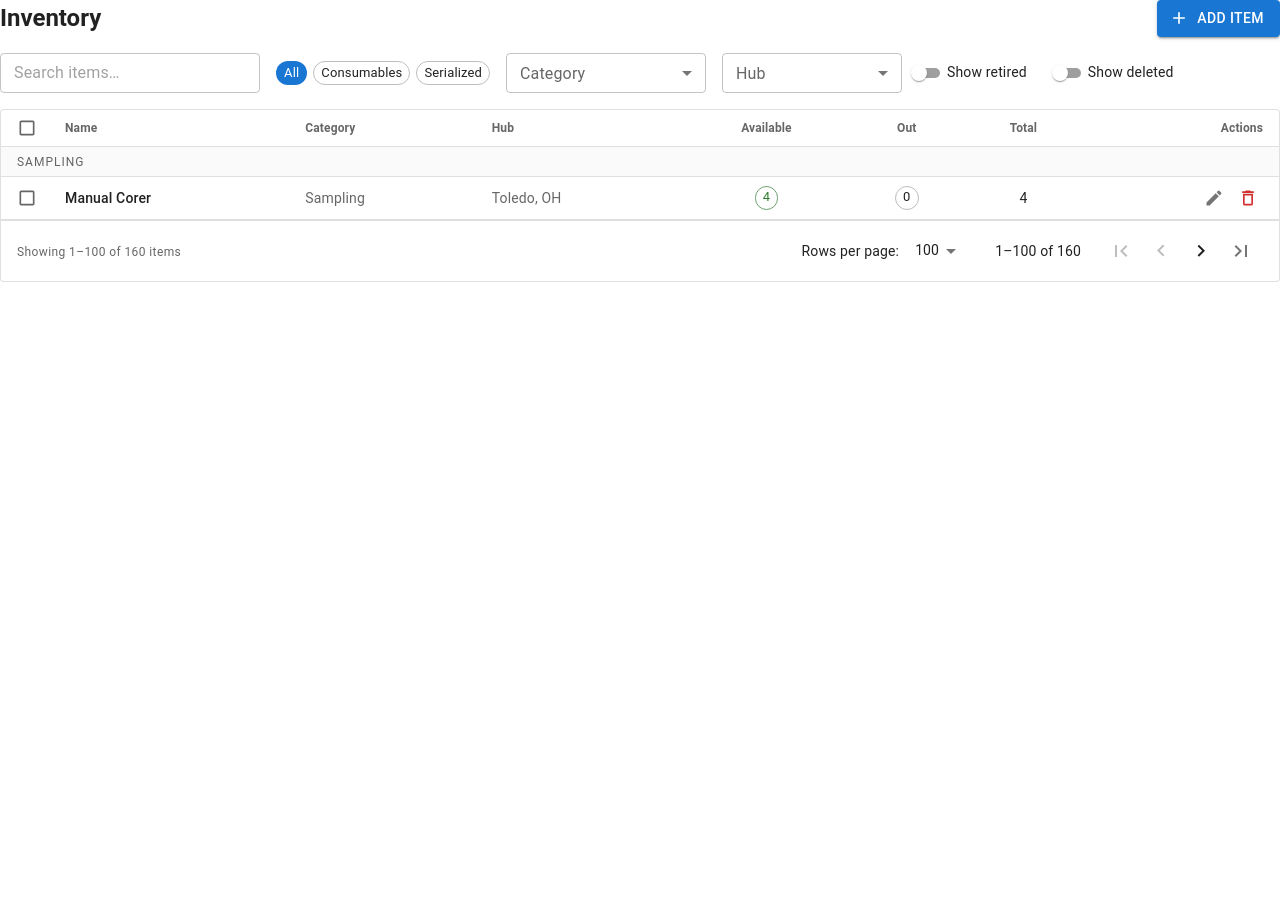
Test: PR-1a · Inventory list truth › pins the item just created under "Just added" with a New chip
Expected: the text "Manual Corer" is shown, top-left (65, 188), bottom-right (151, 208)
Click the button "Add Item": (1219, 18) top-left (1157, 0), bottom-right (1279, 36)
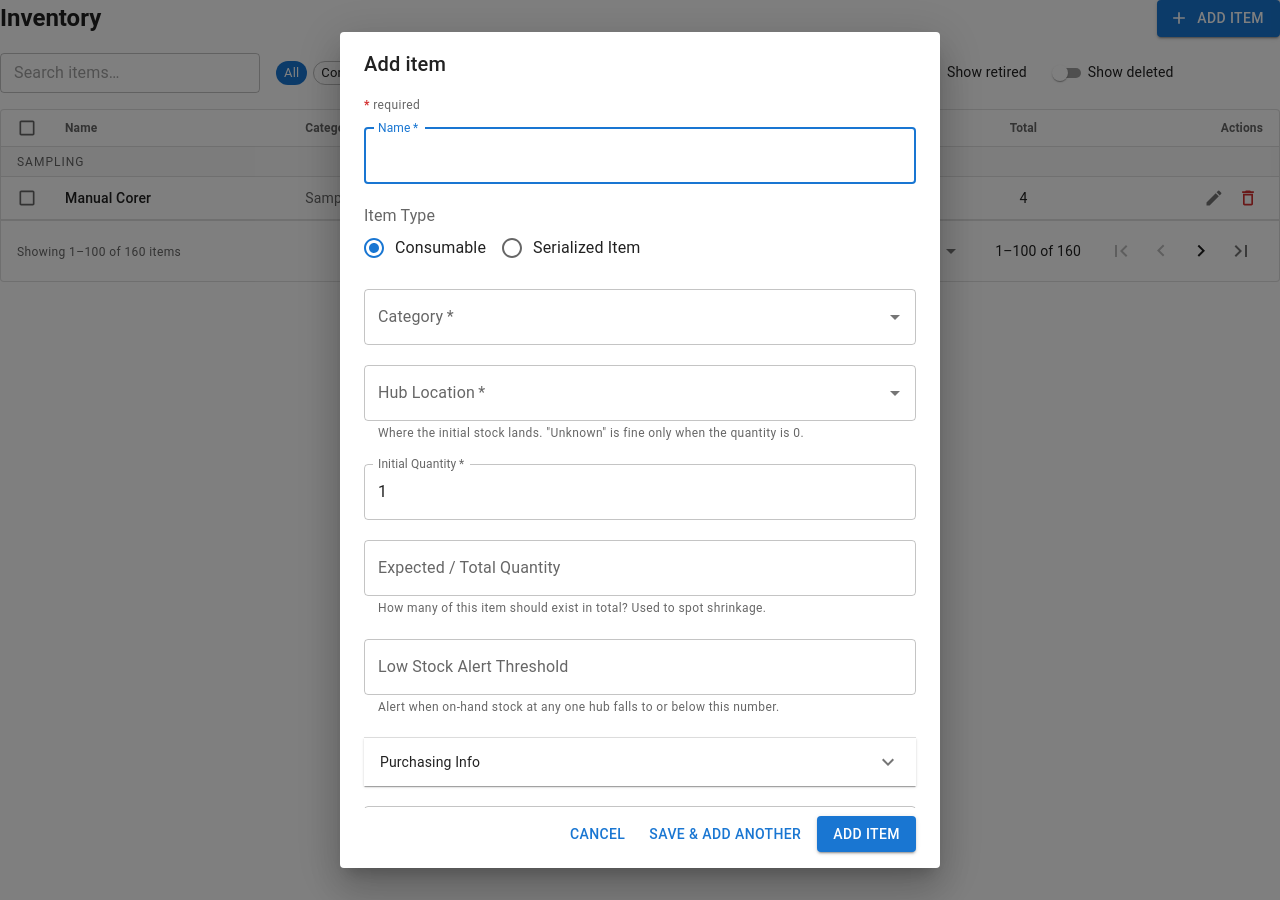
In the field labelled "Name *": (640, 156) top-left (364, 128), bottom-right (916, 184), type "Tedlar bag"
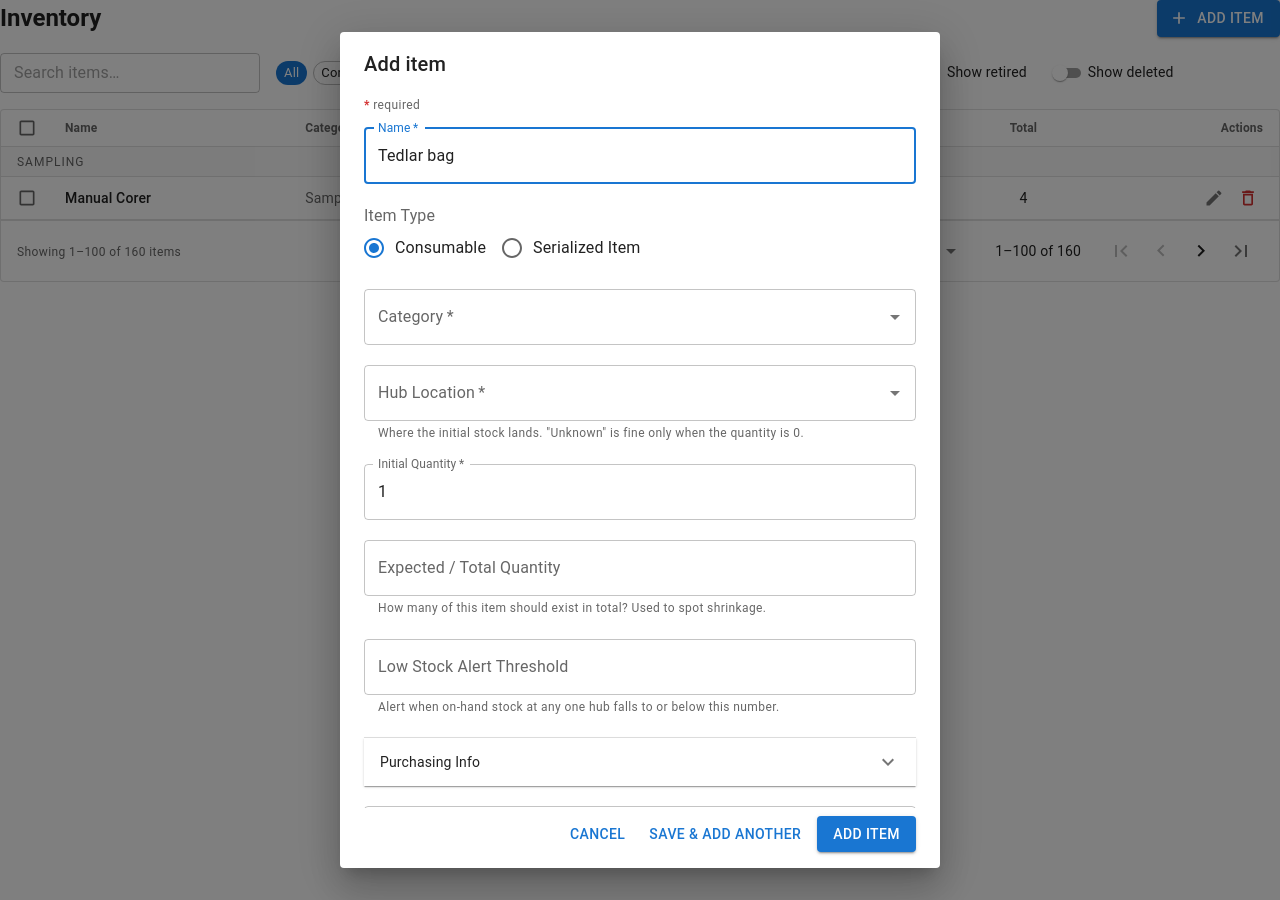
Press the mouse on the dropdown labelled "Category *": (625, 317) top-left (373, 298), bottom-right (877, 336)
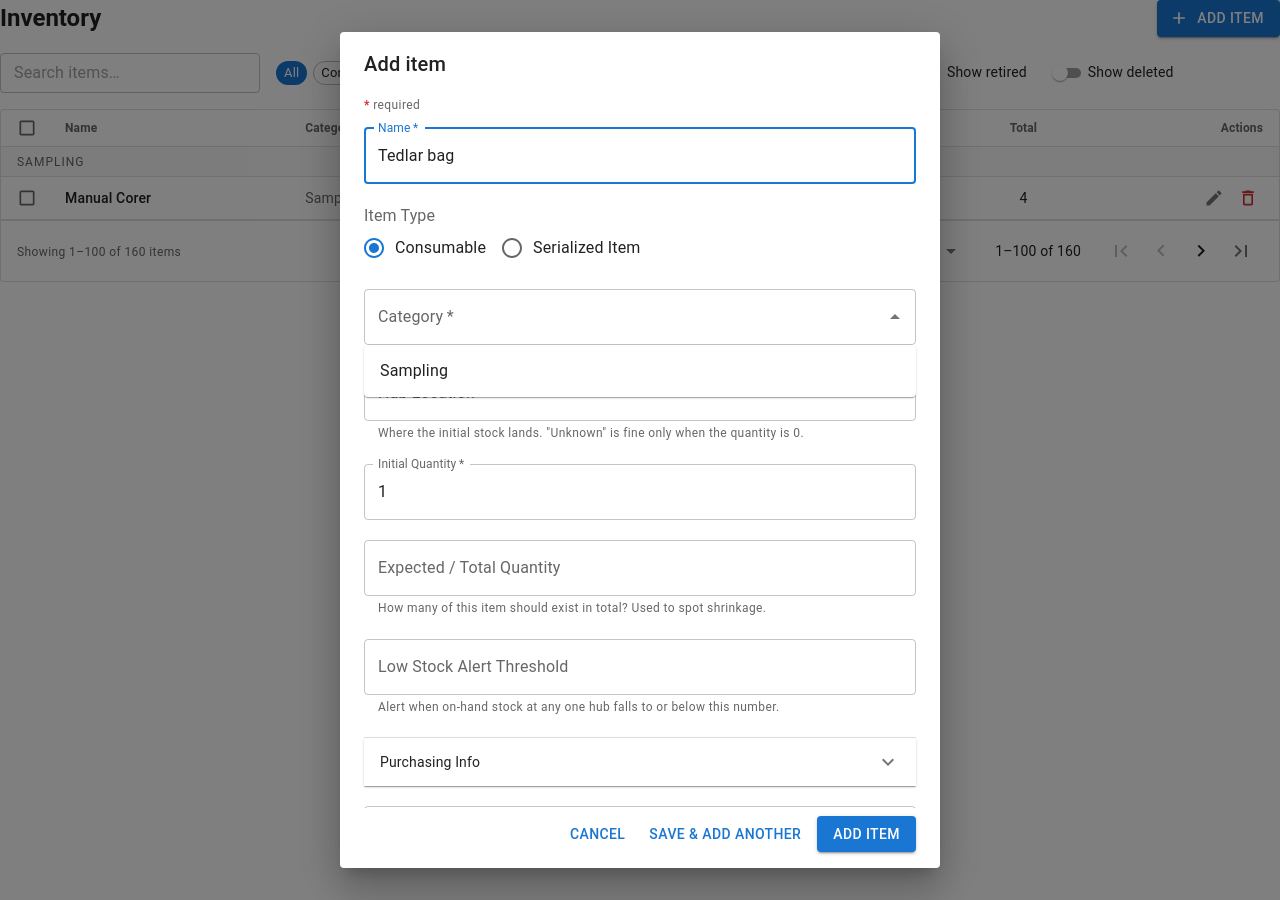
Click the option "Sampling": (414, 370) top-left (380, 361), bottom-right (448, 380)
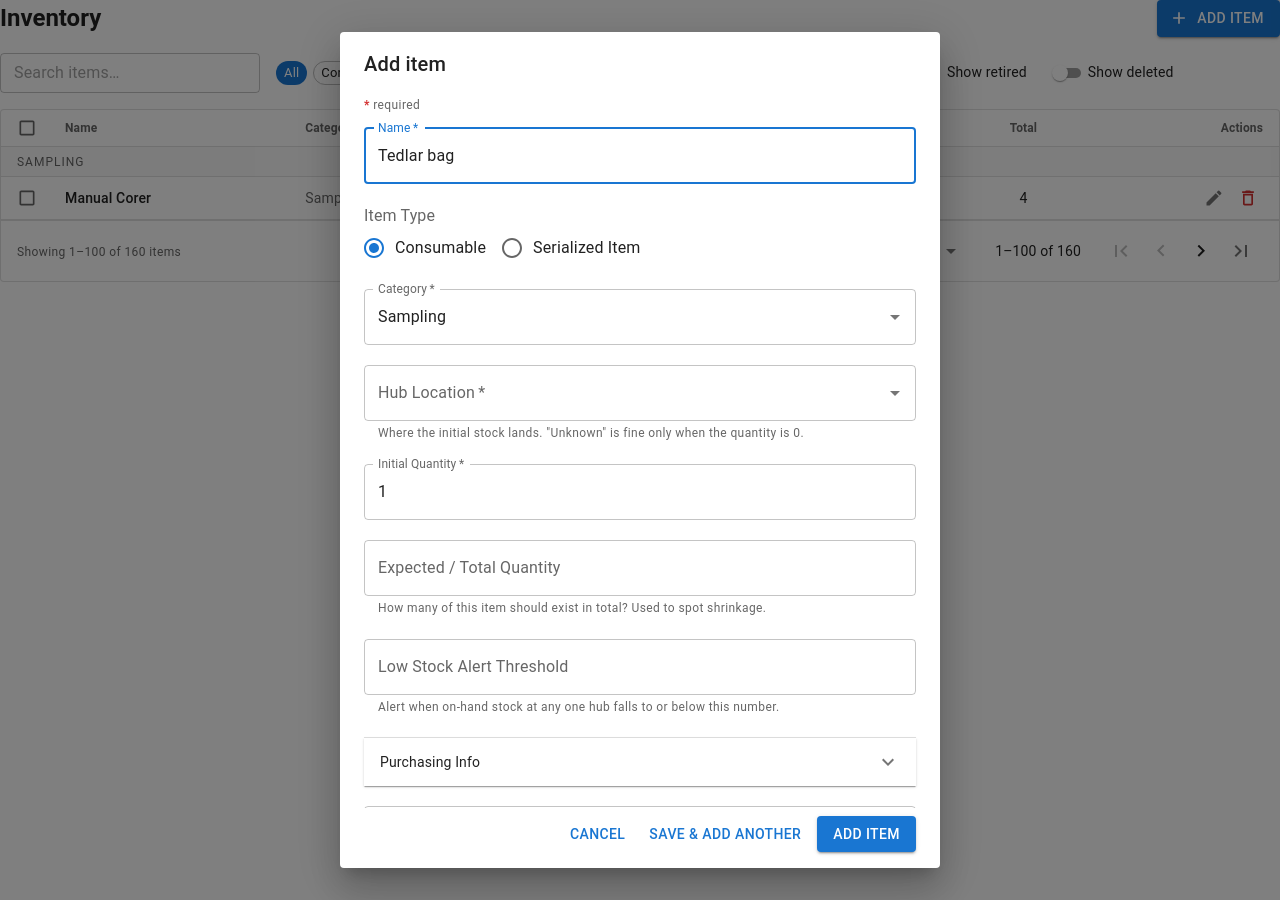
Replace the text in the number field labelled "Initial Quantity *" with "0": (640, 492) top-left (364, 464), bottom-right (916, 520)
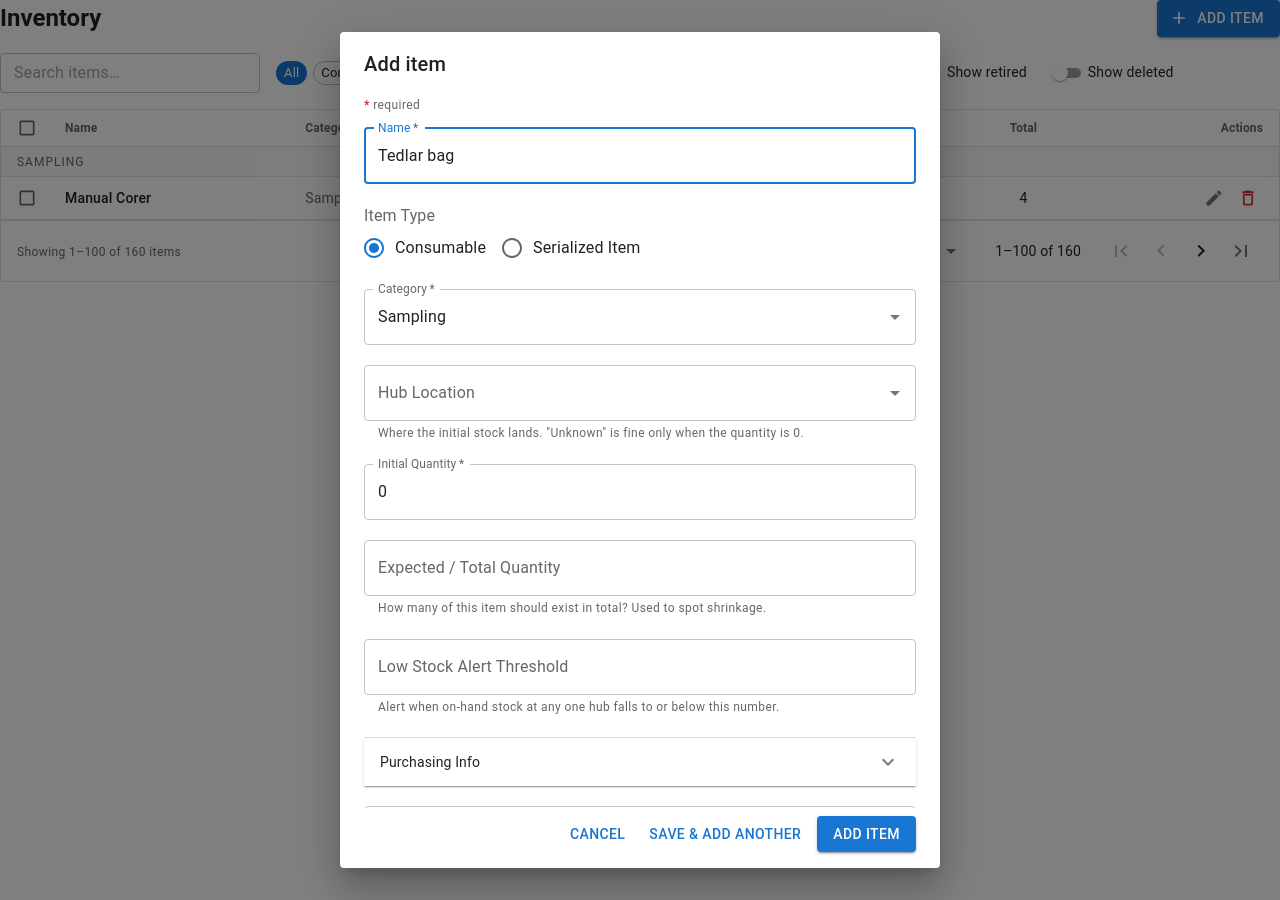
Click the button "Add item": (867, 834) top-left (817, 816), bottom-right (916, 852)
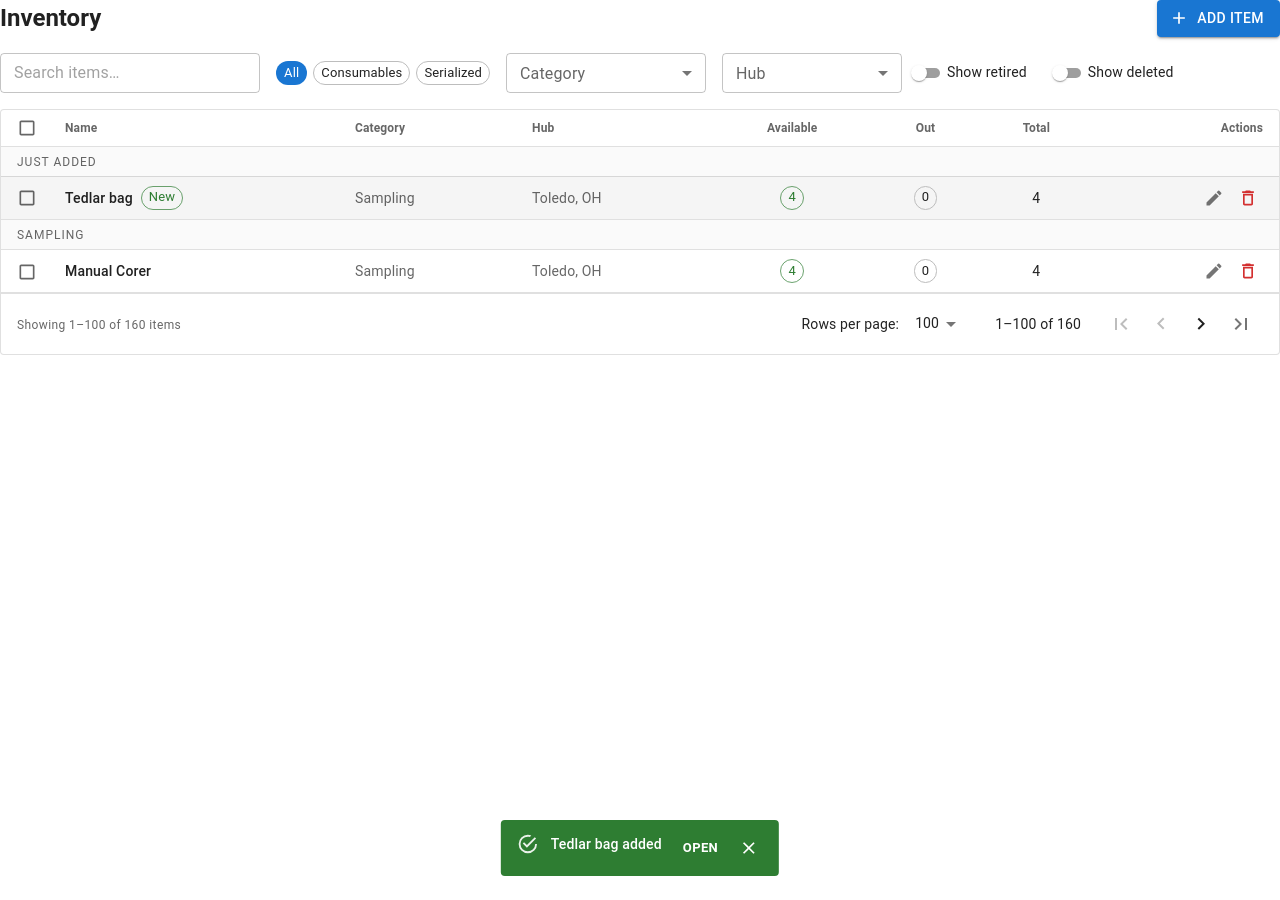
Now the text "Just added" is shown, box top-left (17, 154), bottom-right (97, 168)
Now the text "Tedlar bag" is shown, box top-left (65, 188), bottom-right (133, 208)
Now the text "New" is shown, box top-left (149, 189), bottom-right (175, 204)
